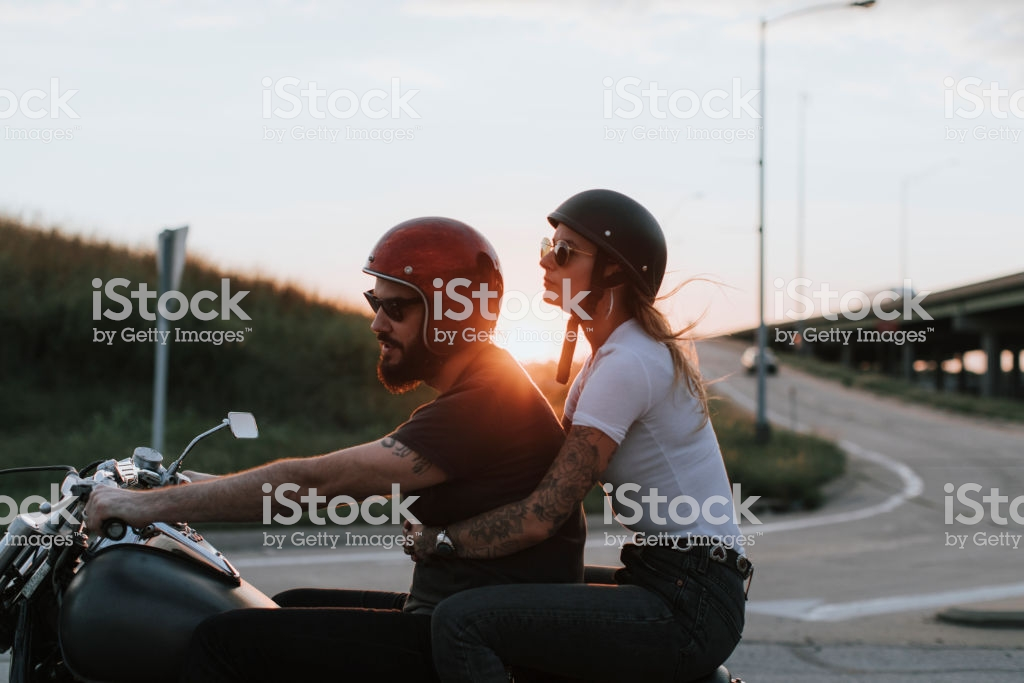helmet: (362, 217, 506, 345), (546, 174, 674, 293)
